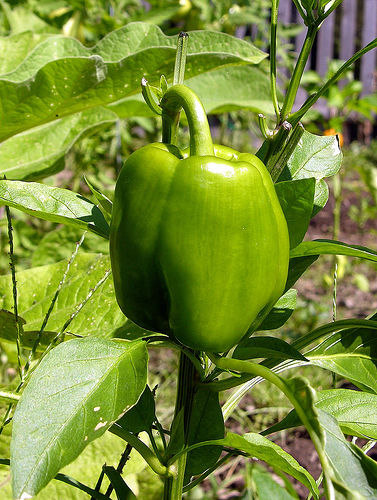capsicum: (108, 85, 291, 352)
